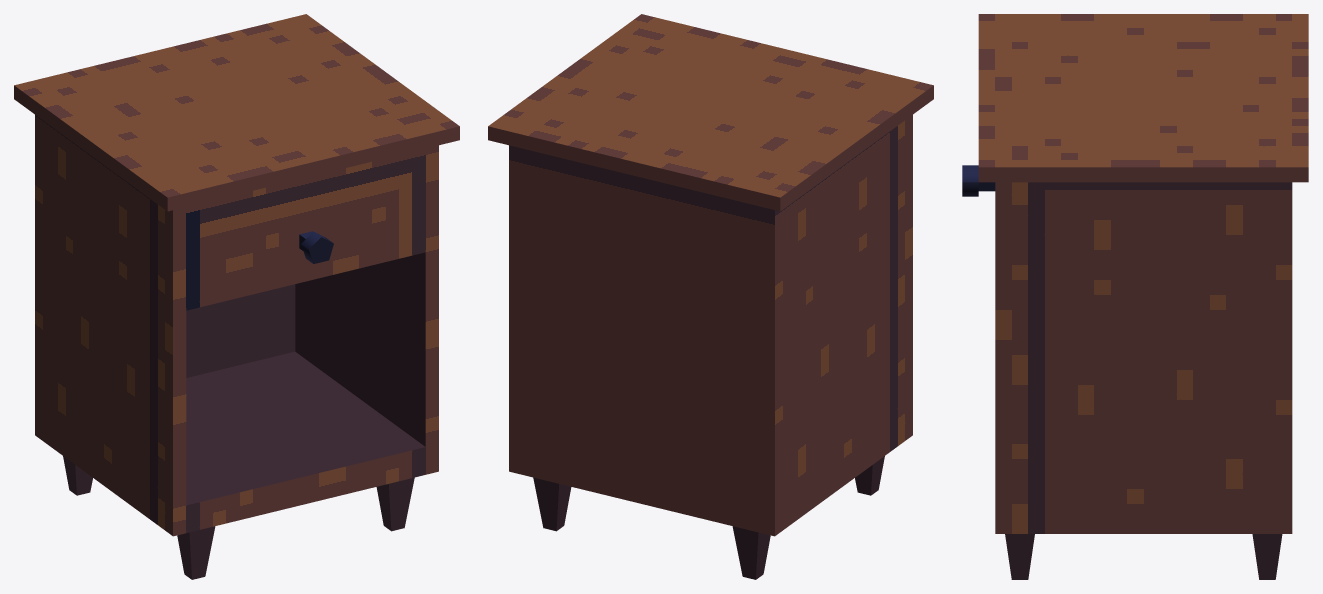
File: SM_NightStand.fbx
3 views of the same model, side by side, from view 1: azimuth 30°, elevation 25°; view 2: azimuth 150°, elevation 25°; view 3: azimuth 270°, elevation 25° (orthographic). The views are drawn at different scales.
Parts seen in each view (by area): view 1: NightStand.001; view 2: NightStand.001; view 3: NightStand.001.
Part boxes in pixels (x1,y1,x2,y2): NightStand.001: (14,14,459,579); NightStand.001: (488,14,933,579); NightStand.001: (962,14,1308,579).
Bounding box in the file's own units: 68.75 × 90.63 × 65.63.
